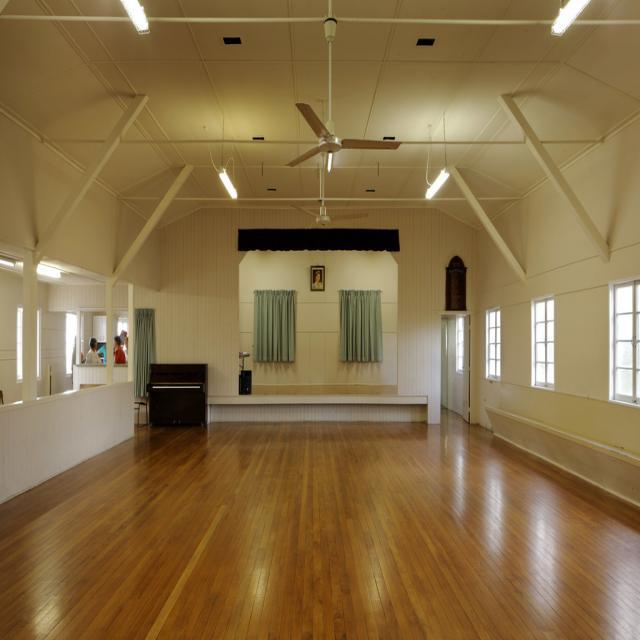fan_off: (282, 97, 402, 177)
tubelight_on: (543, 0, 600, 41), (420, 163, 456, 212), (118, 0, 159, 40), (211, 166, 248, 207), (15, 302, 30, 395), (33, 259, 73, 285), (30, 302, 42, 381), (0, 254, 24, 274)
